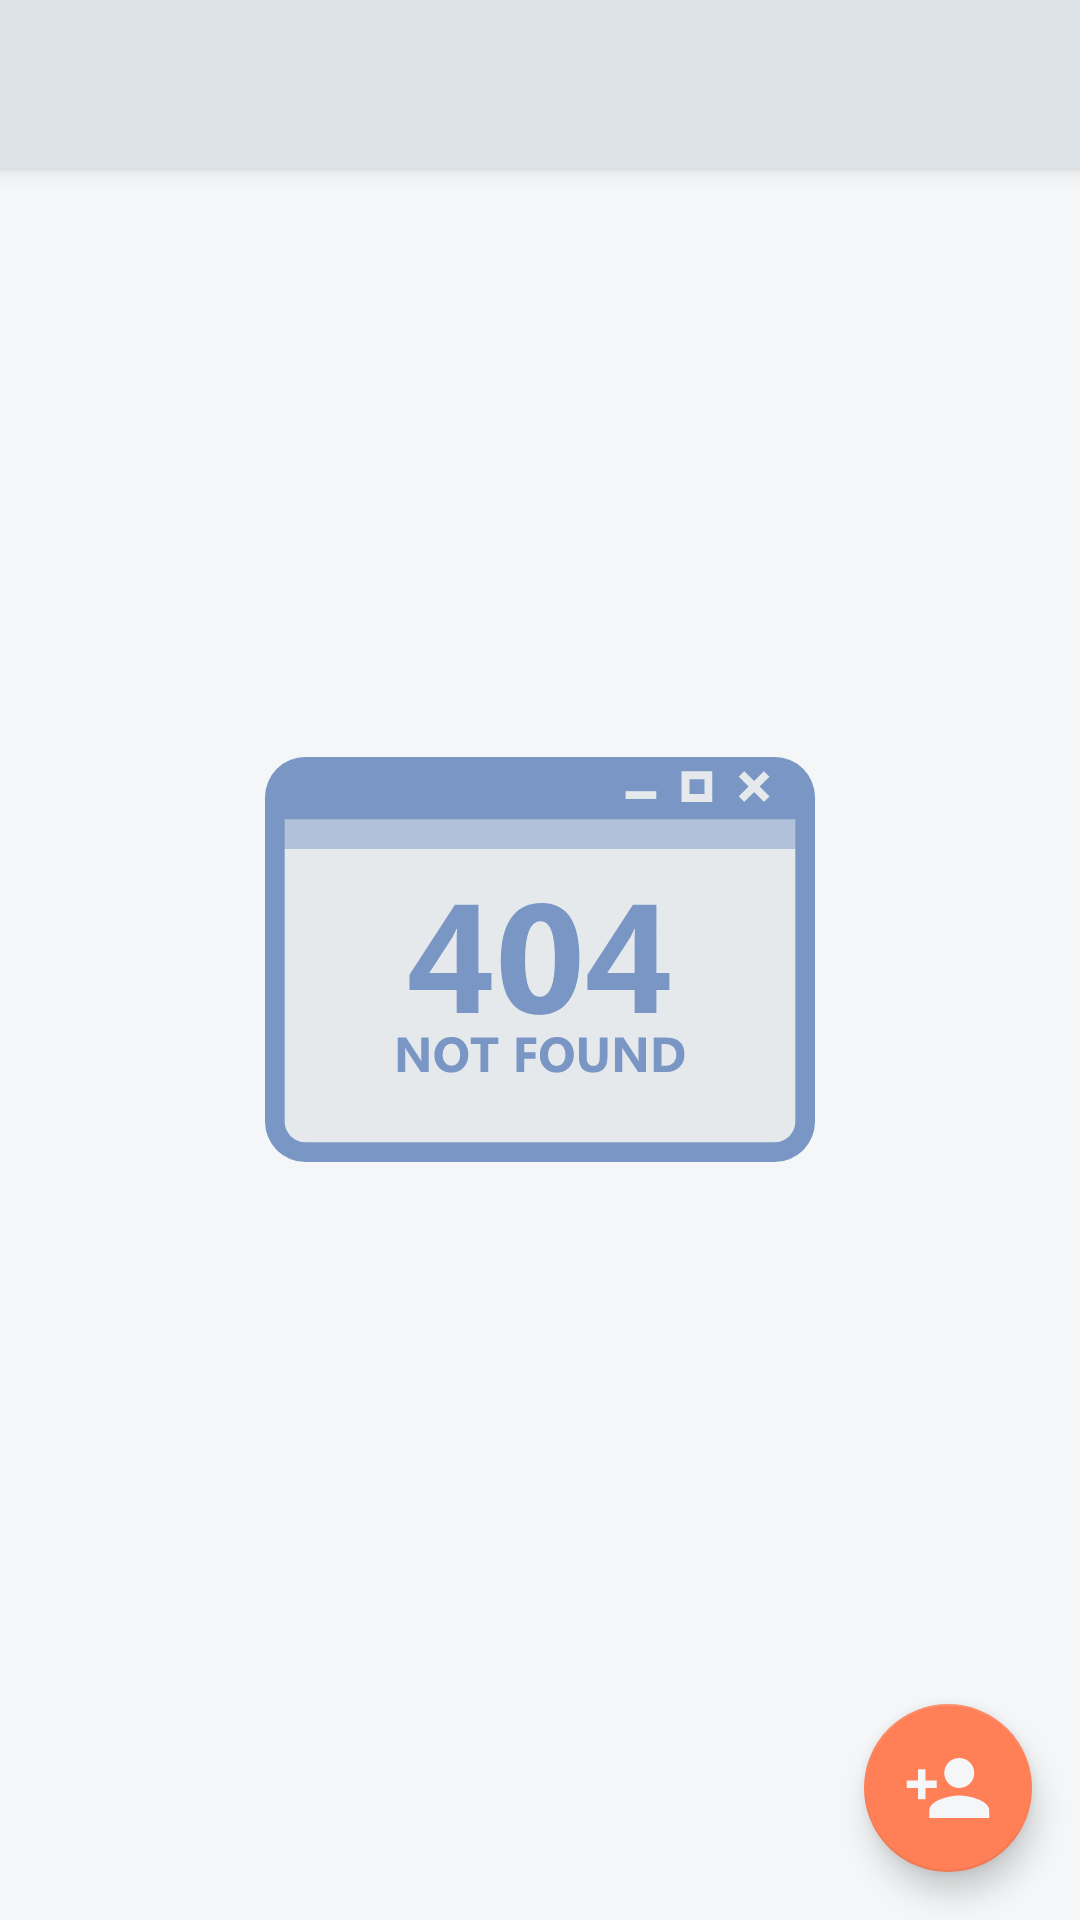

Named icons in this screenshot (1080×1920) and their bounding boxes, (x1, y1, x2, y2):
person add: (864, 1704, 1032, 1872)
